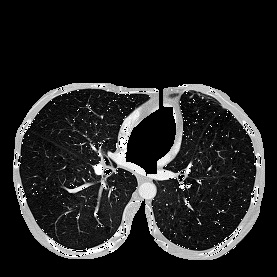PN: (185, 183, 191, 189)
